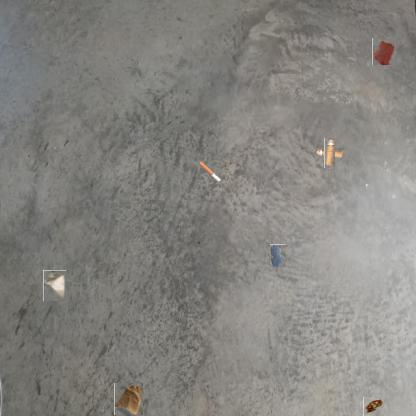dirty: (114, 383, 143, 415), (43, 270, 66, 301), (198, 160, 222, 184), (363, 396, 384, 416), (320, 143, 340, 164)
liquid: (372, 38, 395, 66), (270, 244, 286, 267)
